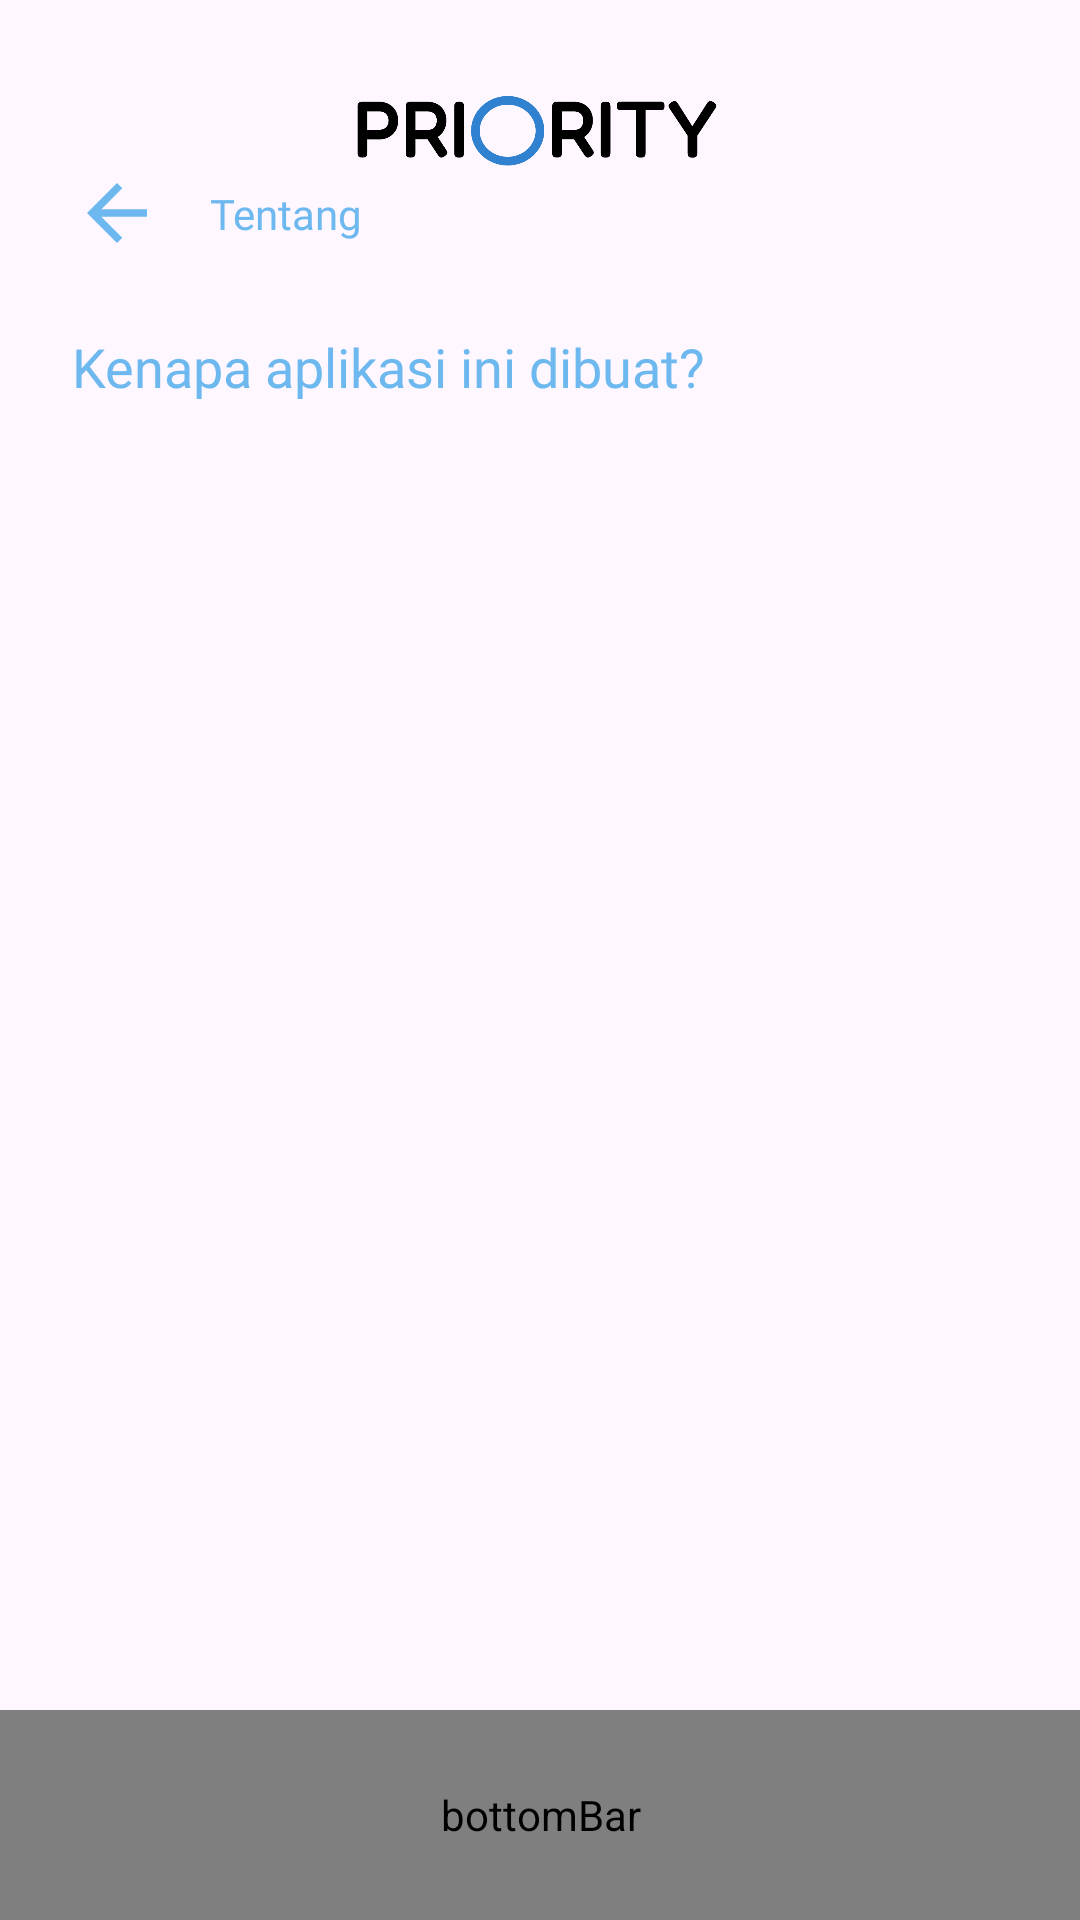

Named icons in this screenshot (1080w x 1920h) and their bounding boxes, (x1, y1, x2, y2):
arrow back: (87, 183, 147, 243)
